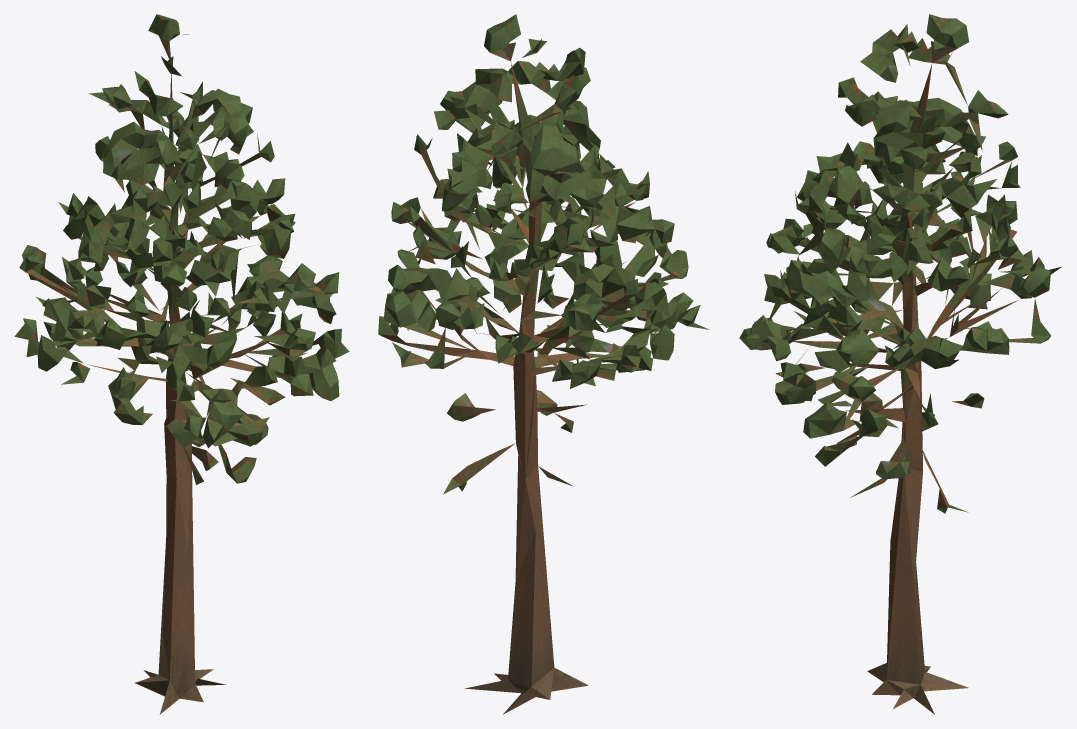
File: pine.glb
3 renders of one model, left to right at view 1: azimuth 30°, elevation 25°; view 2: azimuth 150°, elevation 25°; view 3: azimuth 270°, elevation 25°, orthographic. The views are drawn at different scales.
Visible parts, largest first — view 1: output_unwrapped; view 2: output_unwrapped; view 3: output_unwrapped.
Boxes of the visible parts, box(x1,y1,x2,y2) form: output_unwrapped: box(14, 14, 349, 714); output_unwrapped: box(378, 14, 709, 714); output_unwrapped: box(739, 14, 1061, 714).
Bounding box in the file's own units: 0.8764 × 1.89 × 0.8172.
1 material, 1 textured.
